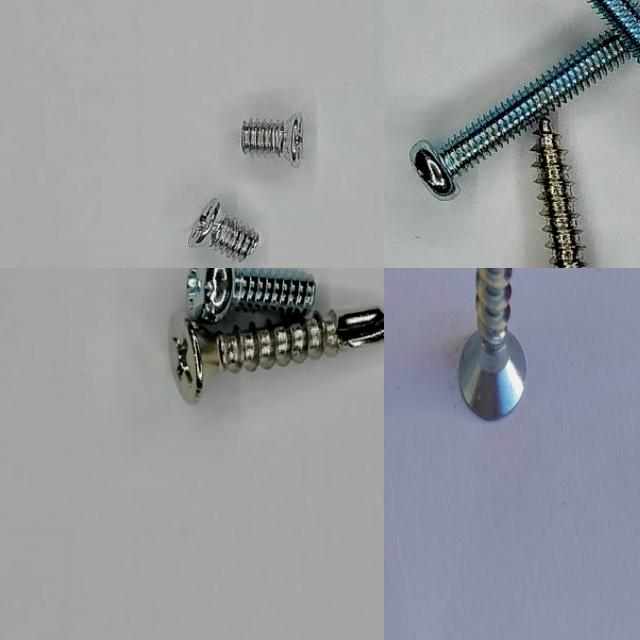Screw: (411, 30, 627, 197), (169, 309, 384, 404), (459, 268, 526, 418), (532, 118, 585, 268), (186, 268, 315, 327), (187, 198, 259, 262), (239, 112, 303, 168)
